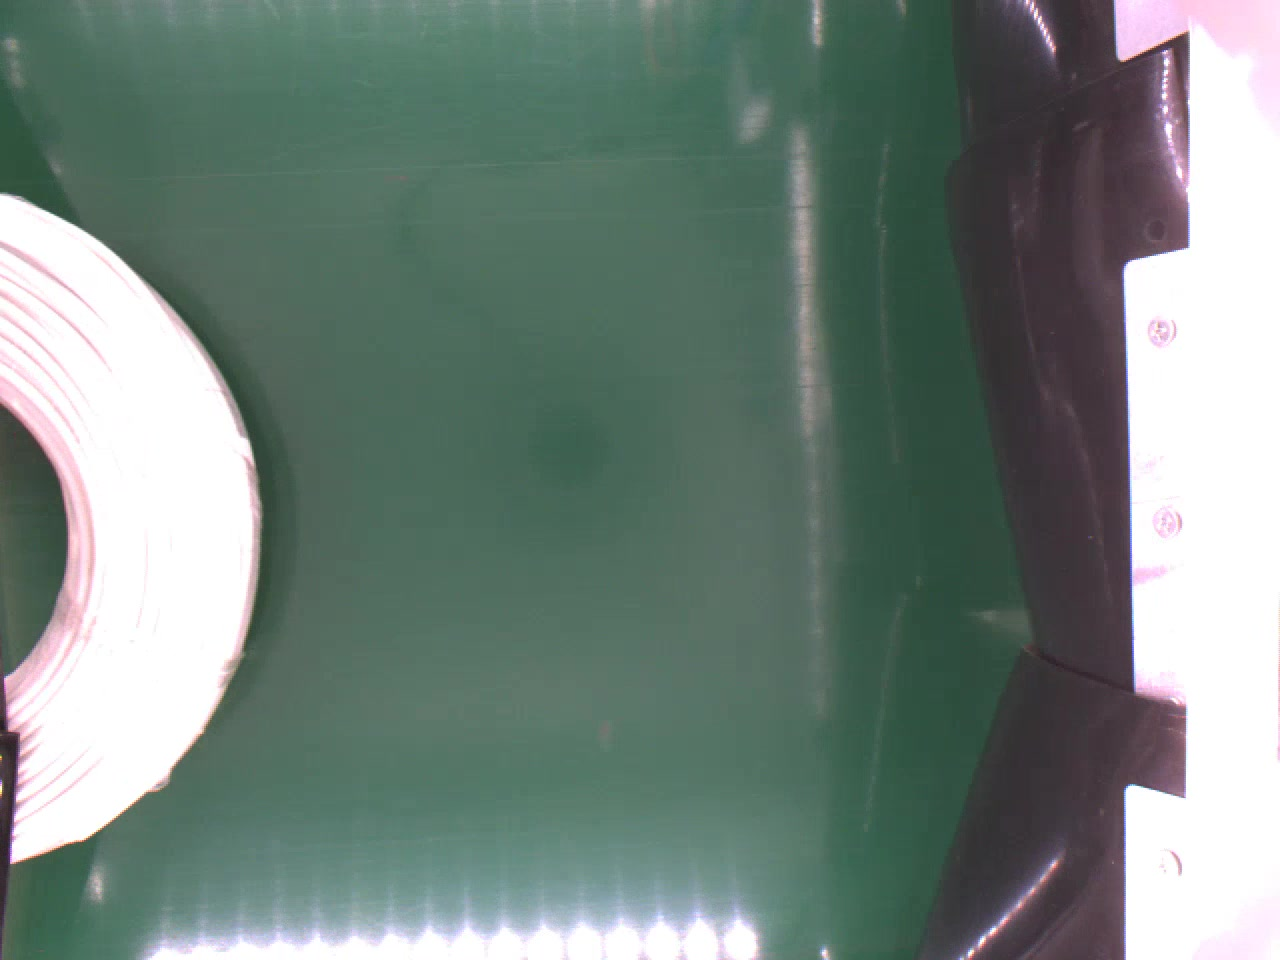white: (0, 192, 265, 864)
